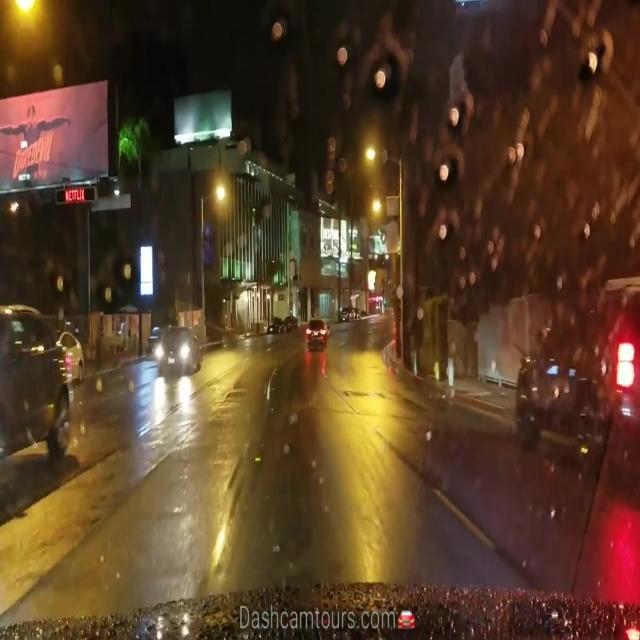Car: (518, 287, 634, 465), (155, 326, 200, 370), (304, 319, 325, 345)
